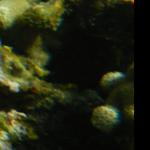dead: (1, 1, 131, 148)
